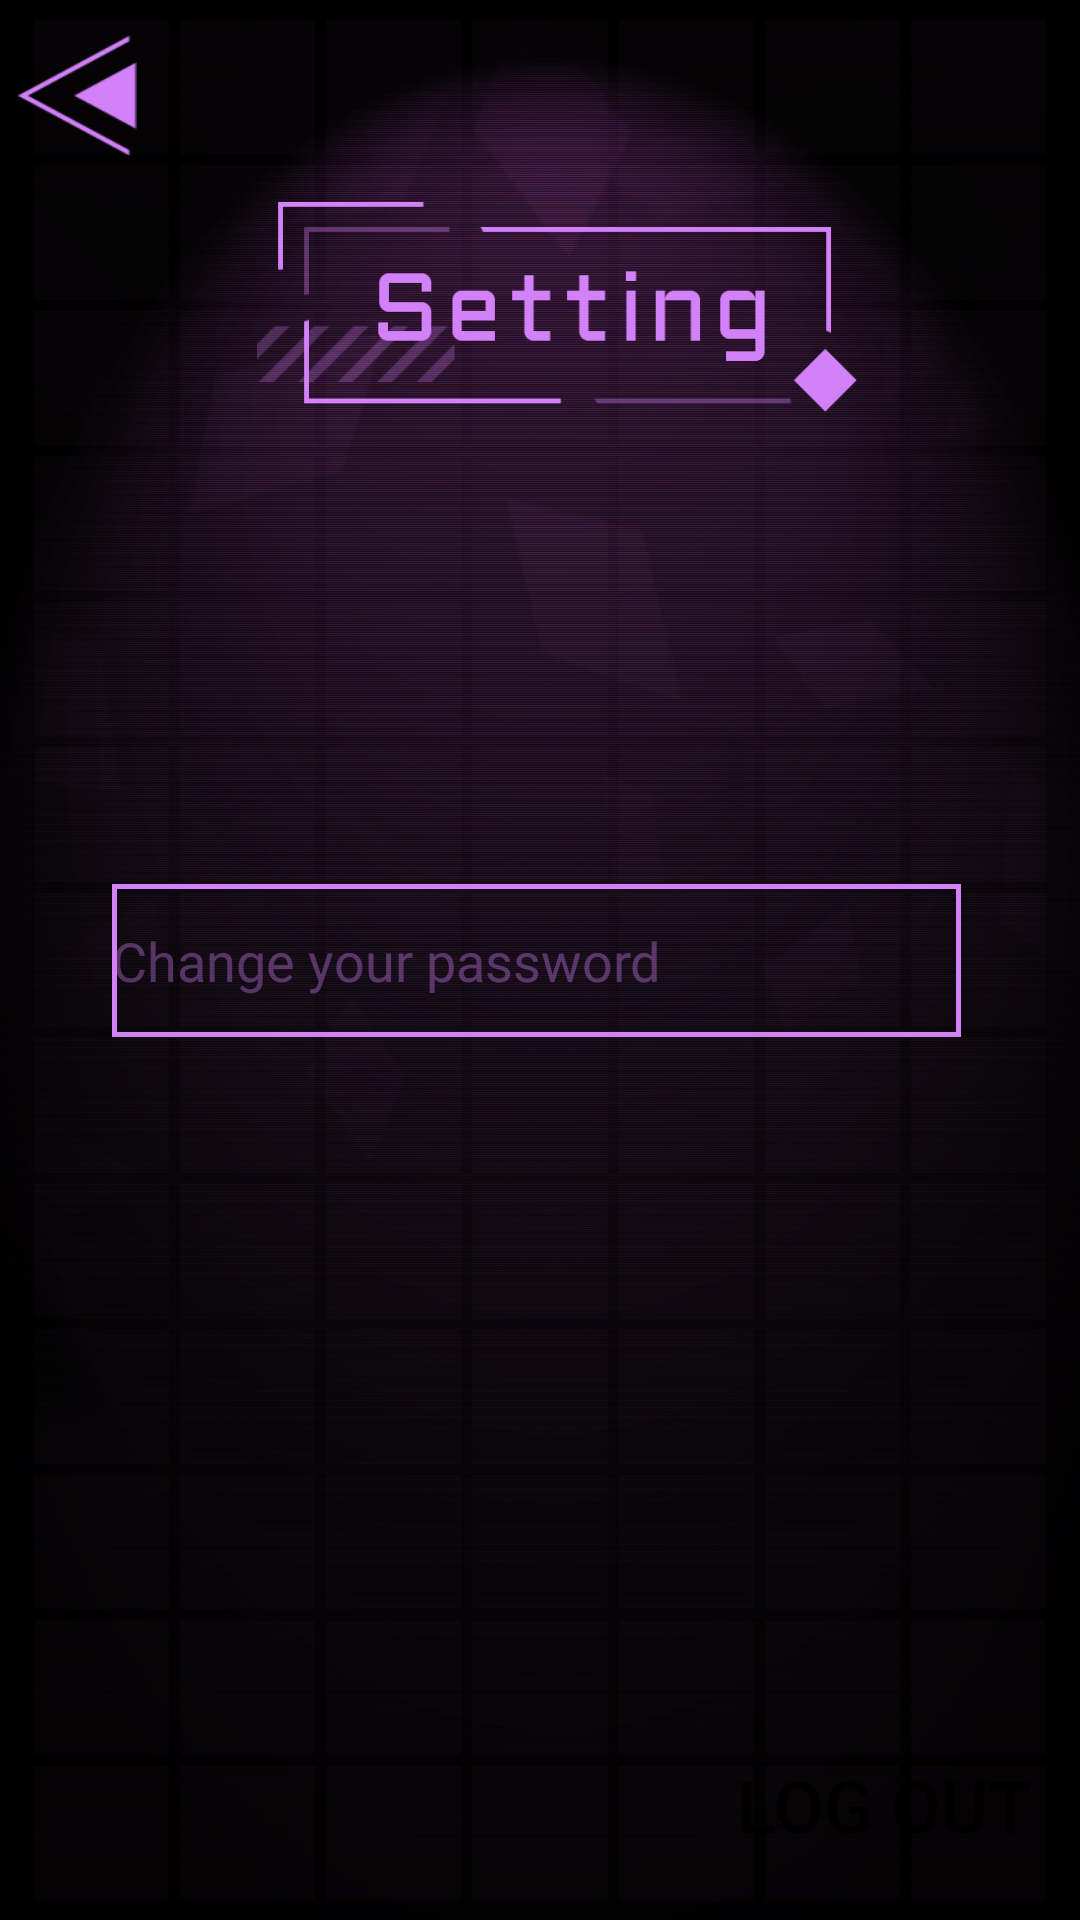

Where to tap for icons on this 1080w x 1920h app screen, as point (x, y):
back: point (77, 95)
